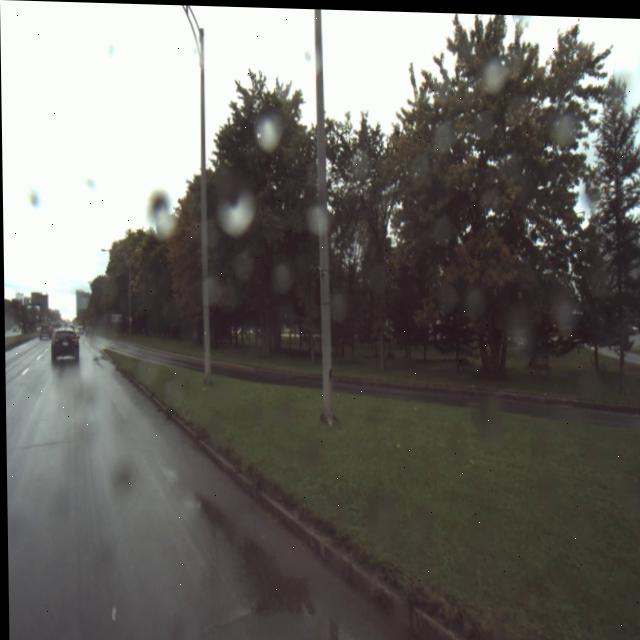car: (50, 327, 79, 366), (38, 323, 50, 341)
